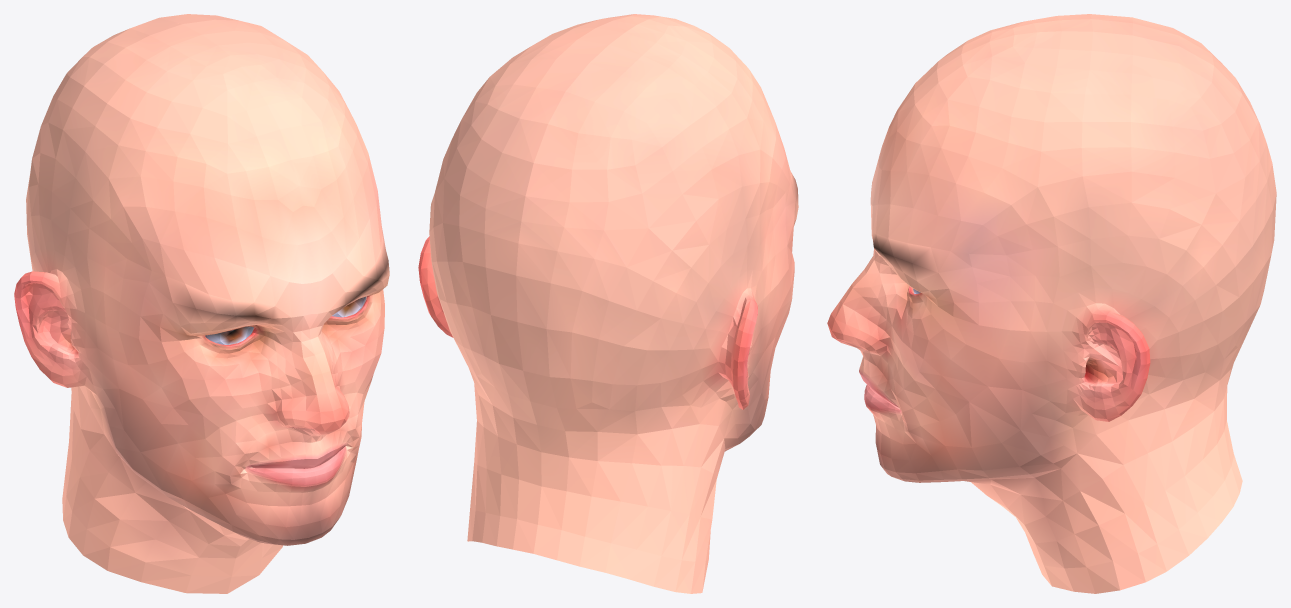
File: male_head_faceted-v3.glb
3 renders of one model, left to right at view 1: azimuth 30°, elevation 25°; view 2: azimuth 150°, elevation 25°; view 3: azimuth 270°, elevation 25°, orthographic.
Visible parts, largest first — view 1: BaseHead_Male_Faceted_defaultMat_0; view 2: BaseHead_Male_Faceted_defaultMat_0; view 3: BaseHead_Male_Faceted_defaultMat_0.
Part boxes in pixels (x1,y1,x2,y2): BaseHead_Male_Faceted_defaultMat_0: (14,14,389,593); BaseHead_Male_Faceted_defaultMat_0: (418,14,798,593); BaseHead_Male_Faceted_defaultMat_0: (827,14,1276,593).
Size of the model in its own units: 19.56 by 30.96 by 23.2.
1 material, 1 textured.
